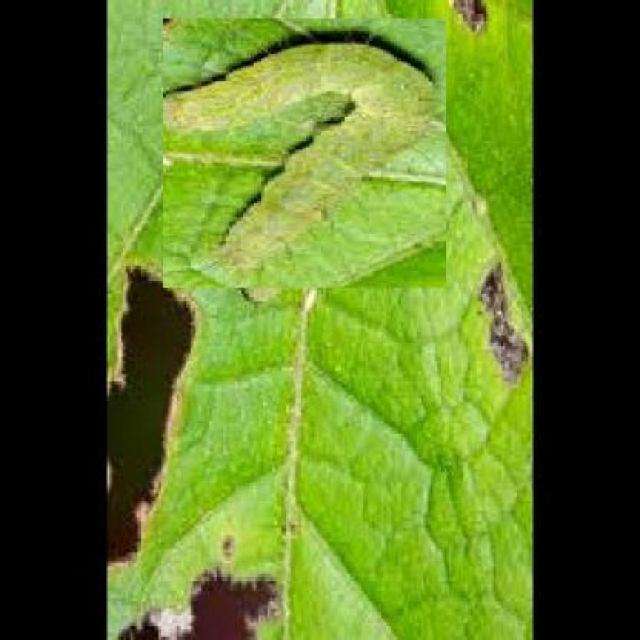Plaga: (166, 16, 445, 294)
